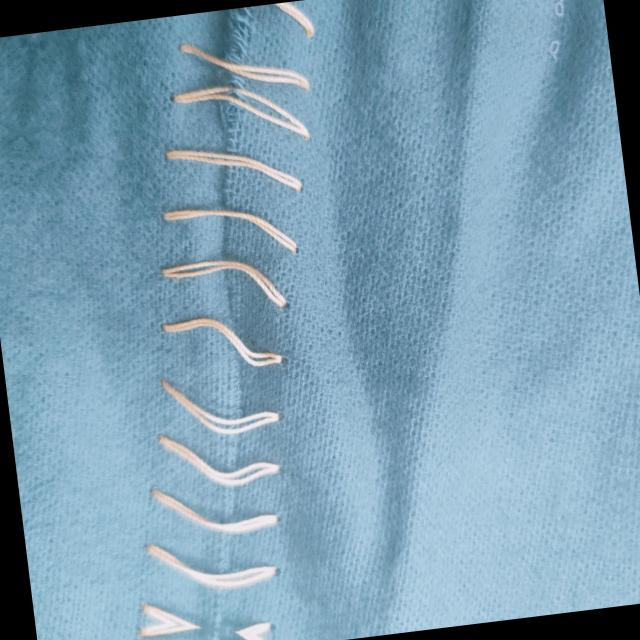gray stitch: (118, 1, 351, 376), (107, 367, 302, 640)
